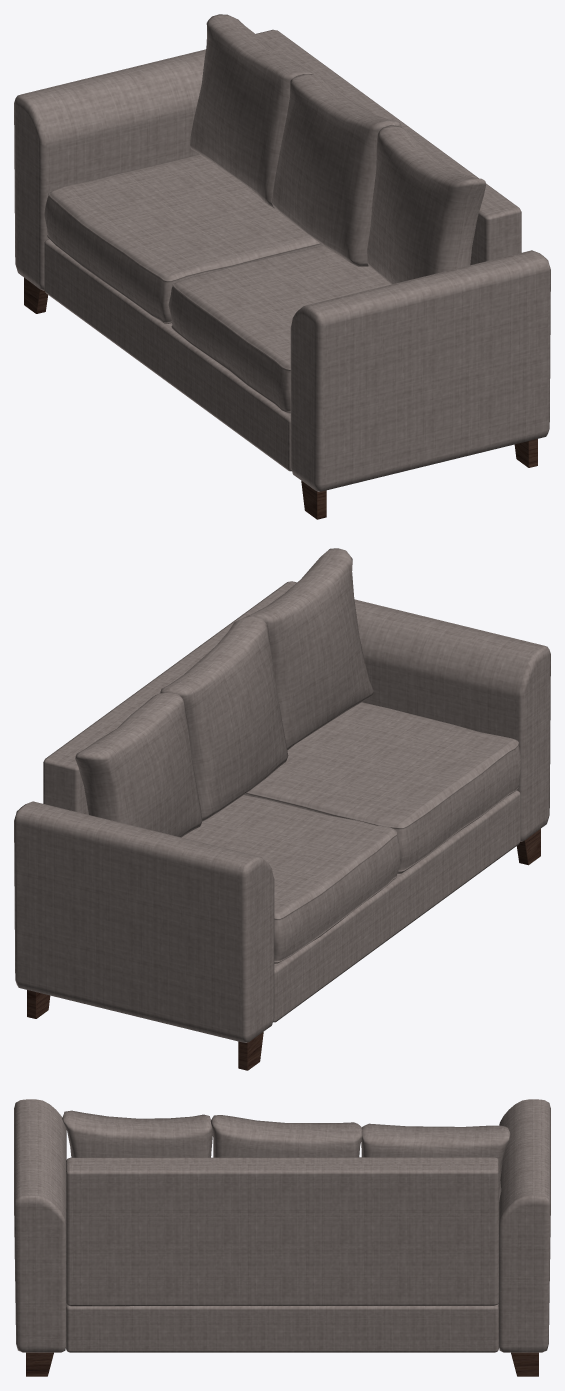
Rendered from Sofa1.fbx.
3 renders of one model, top to bottom at view 1: azimuth 30°, elevation 25°; view 2: azimuth 150°, elevation 25°; view 3: azimuth 270°, elevation 25°, orthographic. The views are drawn at different scales.
Parts seen in each view (by area): view 1: dessous; view 2: dessous; view 3: dessous.
Part boxes in pixels (x1,y1,x2,y2): dessous: [14, 14, 550, 519]; dessous: [14, 548, 550, 1070]; dessous: [14, 1099, 550, 1376].
Size of the model in its own units: 98.25 by 110 by 219.
Materials: 1 (1 with a texture image).
